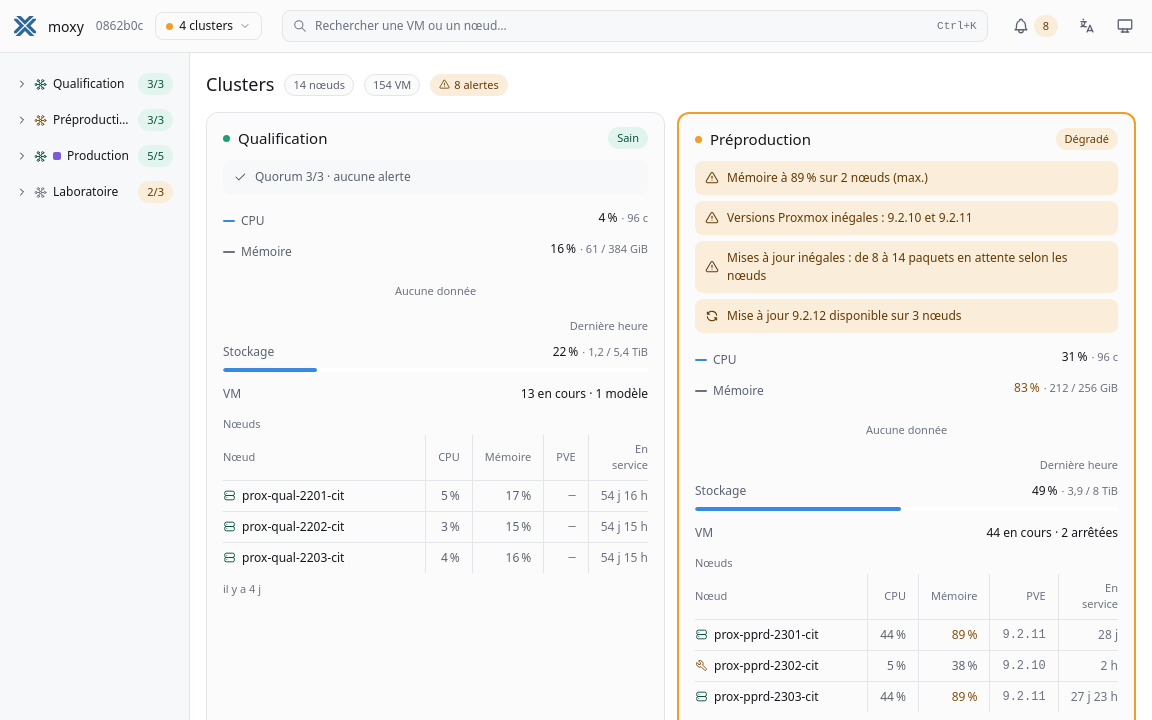
Test: the application in light theme › has no accessibility violation on a cluster
This screenshot has width=1152, height=720.
Click the text "Qualification" at (89, 84), box [53,75,124,93]
(page scrolled)
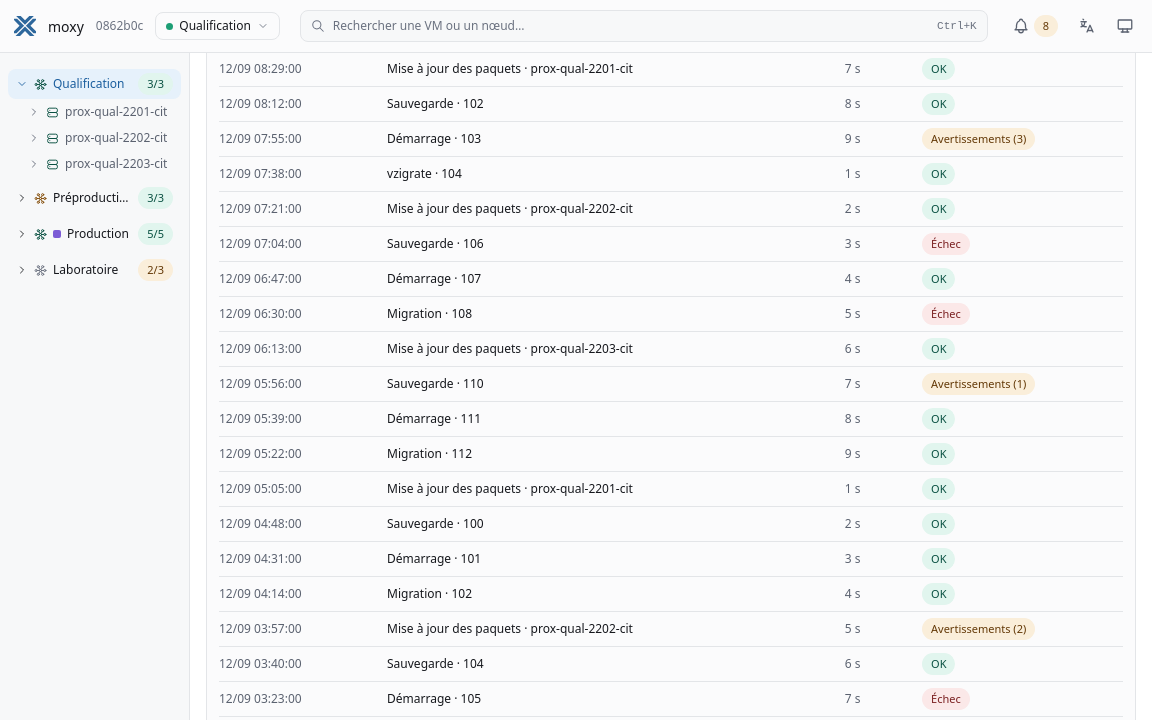
Check: the text "prox-qual-2201-cit" is shown, box [65,103,167,121]
